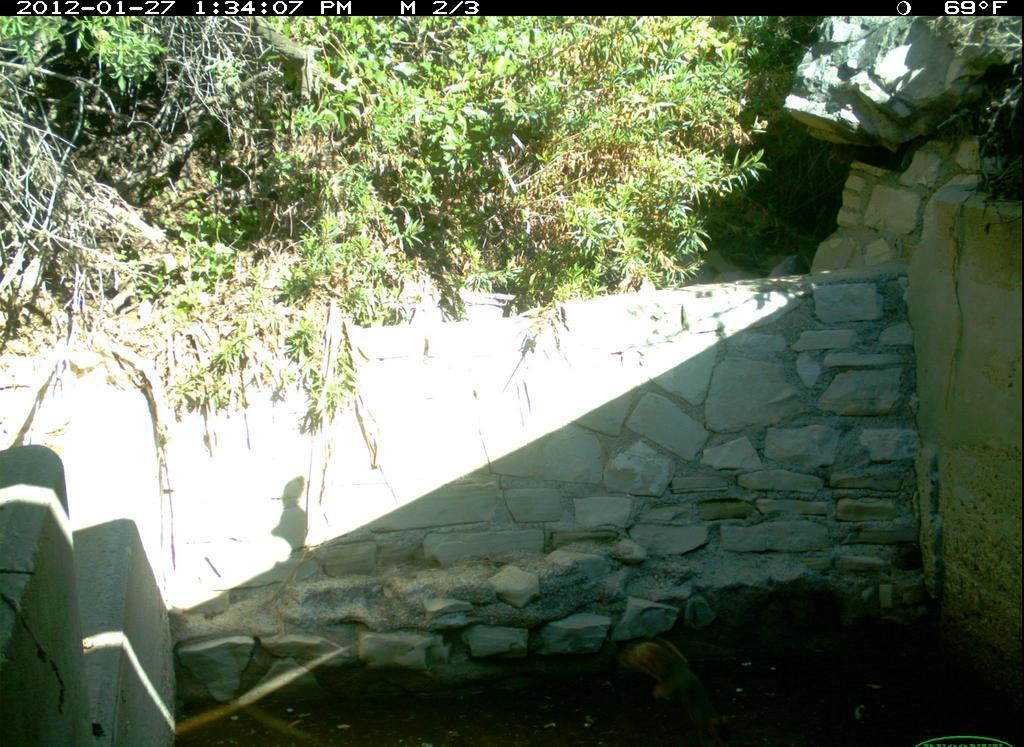squirrel: (611, 626, 749, 747)
